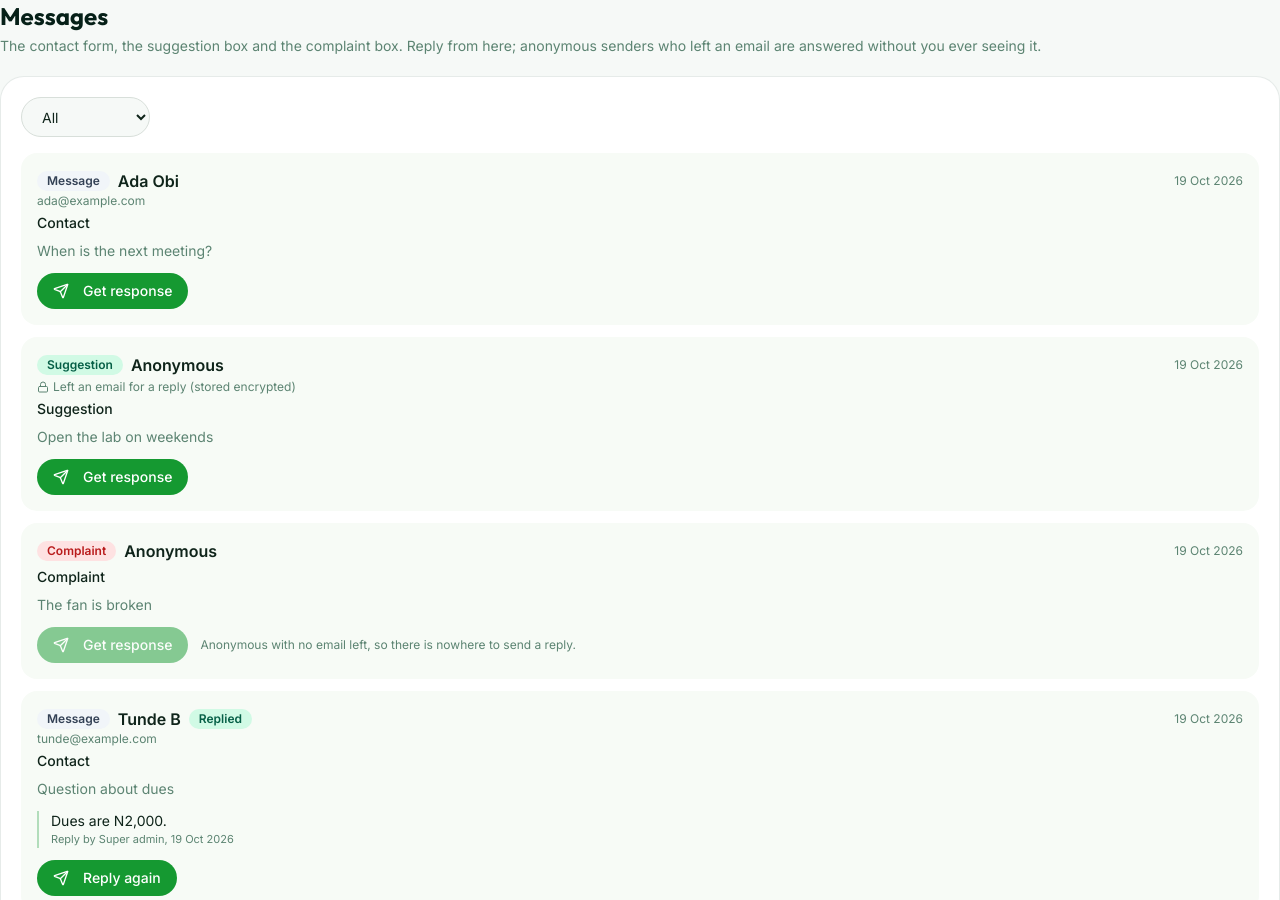
Test: admin Messages replies › states that an anonymous sender's email is encrypted and never shows it
Expected: the text "Open the lab on weekends" is shown, x1=37 y1=428 x2=213 y2=445
Expected: the text "Left an email for a reply (stored encrypted)" is shown, x1=37 y1=379 x2=296 y2=394
Click the button "Get response" below "Open the lab on weekends": click(113, 477) x1=37 y1=459 x2=188 y2=495
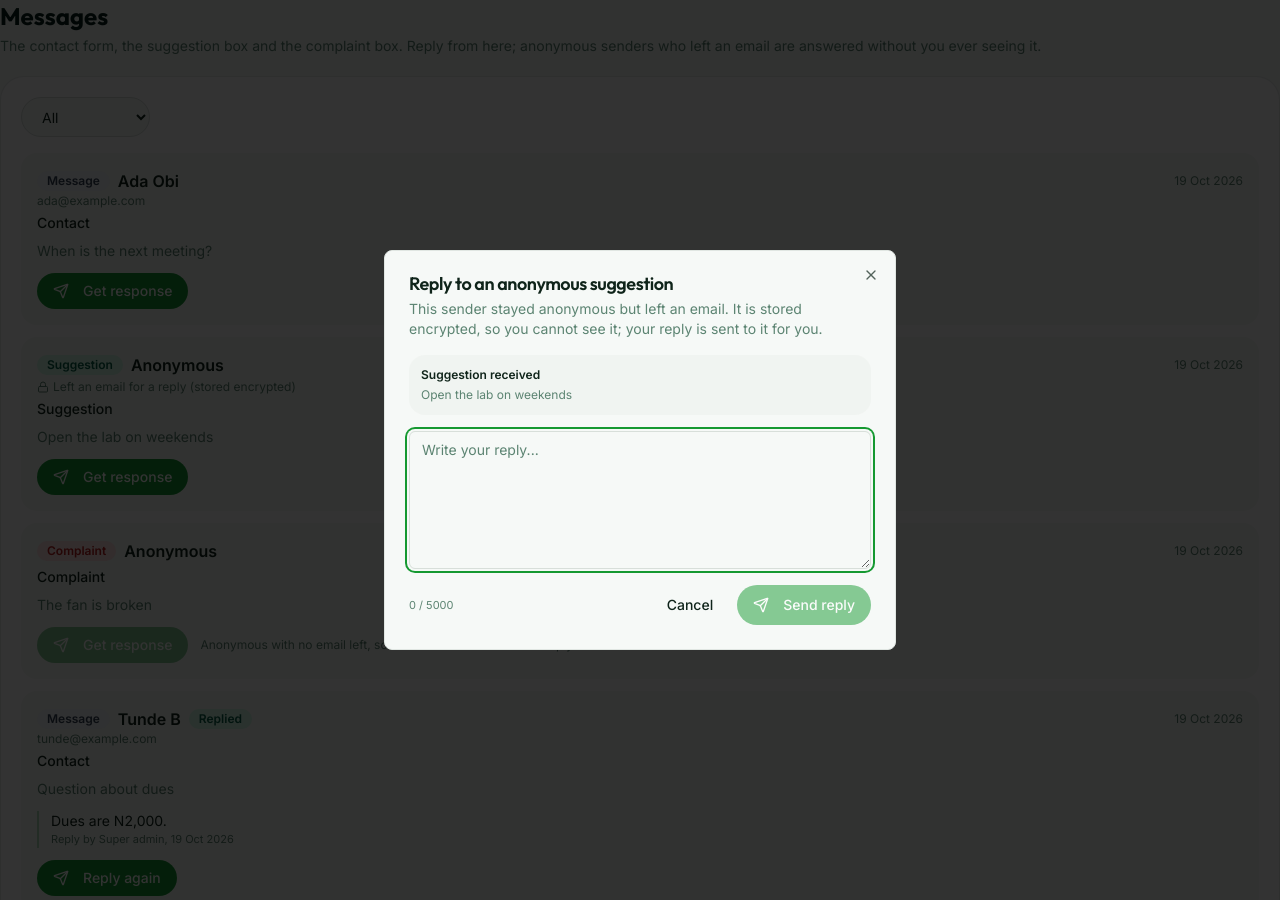
Now the text "stored encrypted, so you cannot see it" is shown, box x1=409 y1=300 x2=823 y2=337
